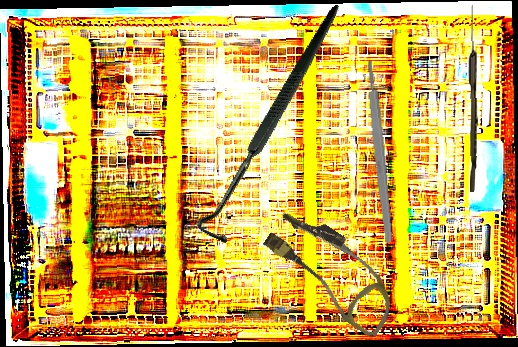Cannula: (253, 201, 412, 340)
Hook Surgical: (137, 4, 413, 251)
Scalpel Handle: (364, 59, 395, 244)
Surgical Spoon: (466, 5, 480, 192)
